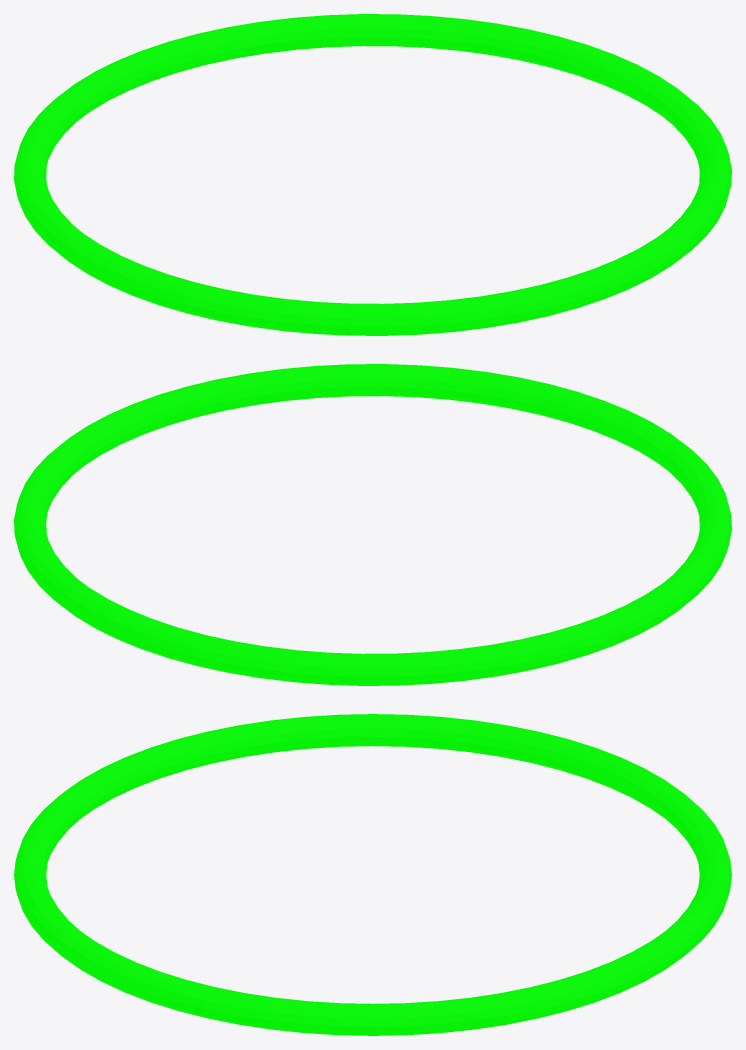
The model's file is rotate_y.glb.
3 views of the same model, one above another, from view 1: azimuth 30°, elevation 25°; view 2: azimuth 150°, elevation 25°; view 3: azimuth 270°, elevation 25° (orthographic).
Parts seen in each view (by area): view 1: Ring_Y; view 2: Ring_Y; view 3: Ring_Y.
Part boxes in pixels (bbox=[...]): Ring_Y: bbox=[14, 14, 731, 335]; Ring_Y: bbox=[14, 364, 731, 685]; Ring_Y: bbox=[14, 714, 731, 1035].
Bounding box in the file's own units: 1.26 × 0.0564 × 1.26.
